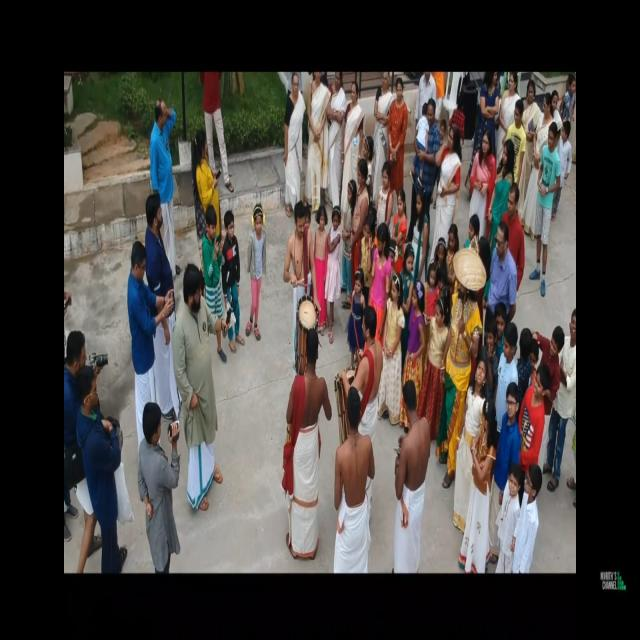humans: (172, 266, 224, 512), (75, 365, 129, 574), (285, 329, 328, 557), (330, 381, 377, 575), (392, 375, 432, 573), (64, 330, 96, 572), (136, 396, 180, 570), (144, 185, 176, 412), (126, 237, 164, 402), (146, 98, 180, 266), (551, 307, 579, 494), (351, 305, 384, 452), (450, 256, 473, 462), (535, 123, 560, 294), (476, 396, 499, 567), (201, 76, 236, 186), (284, 200, 316, 313), (222, 206, 246, 355), (202, 200, 224, 362), (462, 354, 483, 523), (244, 197, 267, 339), (281, 67, 304, 204), (190, 122, 221, 210), (415, 96, 440, 200), (386, 272, 404, 416), (404, 277, 426, 394), (438, 118, 460, 232), (524, 464, 542, 592), (500, 466, 520, 578), (329, 70, 345, 207), (491, 221, 515, 307), (342, 174, 357, 310), (541, 322, 564, 410), (391, 74, 410, 180), (328, 206, 342, 343), (375, 218, 390, 342), (348, 262, 365, 370), (473, 129, 492, 225), (310, 76, 324, 206), (413, 184, 431, 280), (345, 70, 361, 178), (492, 138, 511, 219), (432, 298, 444, 426), (316, 207, 330, 316), (511, 101, 527, 192), (374, 74, 389, 171), (502, 387, 520, 466), (498, 323, 518, 394), (355, 153, 369, 243), (480, 68, 500, 130), (358, 212, 373, 294), (392, 190, 408, 260), (501, 76, 521, 126), (379, 162, 394, 218), (526, 76, 540, 132), (401, 243, 416, 286), (304, 204, 313, 232)
